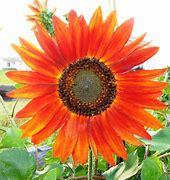sunflowers: (11, 9, 167, 168)
